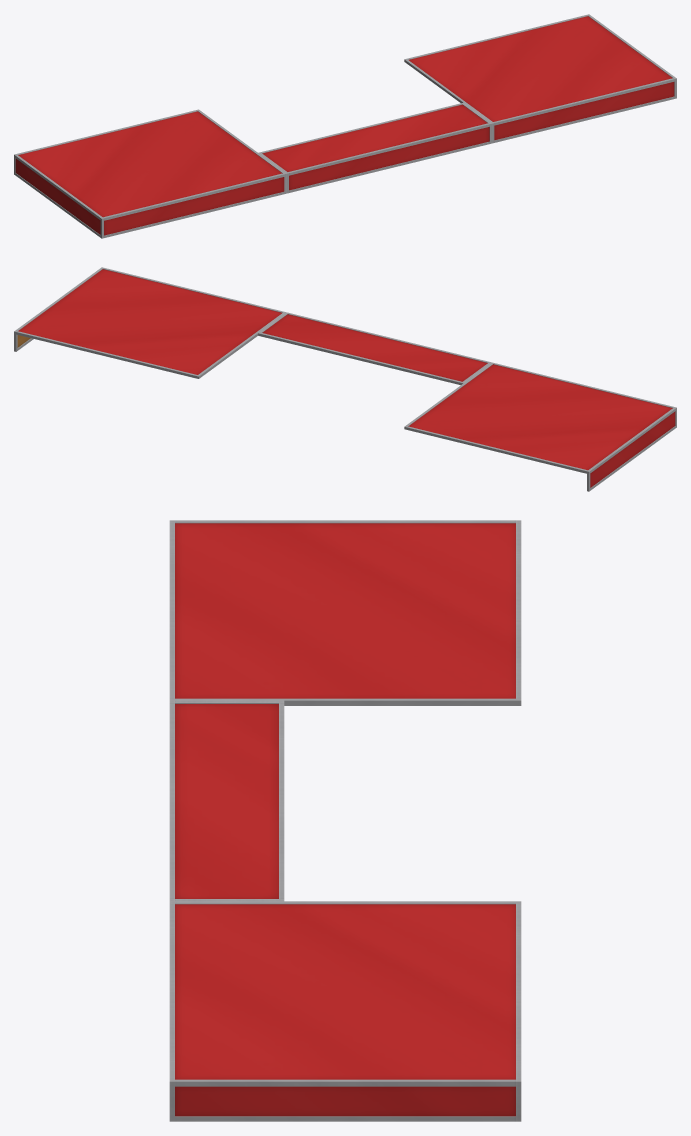
File: jsf_2P_s04_c06_t02_DX.fbx
3 views of the same model, one above another, from view 1: azimuth 30°, elevation 25°; view 2: azimuth 150°, elevation 25°; view 3: azimuth 270°, elevation 25° (orthographic). The views are drawn at different scales.
Parts seen in each view (by area): view 1: jsf_2P_s04_c06_t02_DX; view 2: jsf_2P_s04_c06_t02_DX; view 3: jsf_2P_s04_c06_t02_DX.
Boxes of the visible parts, x1,y1,x2,y2 form: jsf_2P_s04_c06_t02_DX: [14, 14, 676, 238]; jsf_2P_s04_c06_t02_DX: [14, 267, 676, 491]; jsf_2P_s04_c06_t02_DX: [169, 520, 521, 1121].
Size of the model in its own units: 378 by 12.51 by 100.
